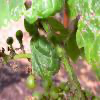grape leaf black rot: (64, 0, 99, 83), (24, 33, 63, 81)
